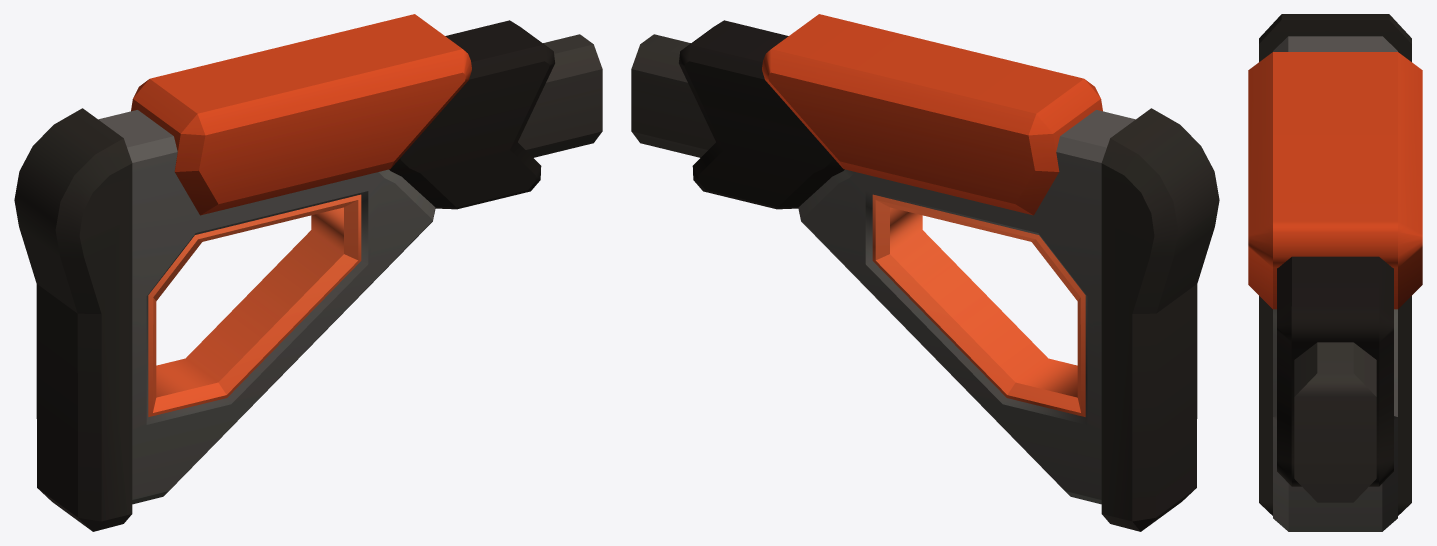
Rendered from AR3_ButtstockHeavy.fbx.
3 views of the same model, side by side, from view 1: azimuth 30°, elevation 25°; view 2: azimuth 150°, elevation 25°; view 3: azimuth 270°, elevation 25° (orthographic). The views are drawn at different scales.
Parts seen in each view (by area): view 1: AR3_ButtstockHeavy; view 2: AR3_ButtstockHeavy; view 3: AR3_ButtstockHeavy.
Boxes of the visible parts, x1,y1,x2,y2 form: AR3_ButtstockHeavy: [14, 14, 602, 531]; AR3_ButtstockHeavy: [631, 14, 1219, 531]; AR3_ButtstockHeavy: [1248, 14, 1422, 531].
Size of the model in its own units: 23.8 by 16.32 by 4.97.
